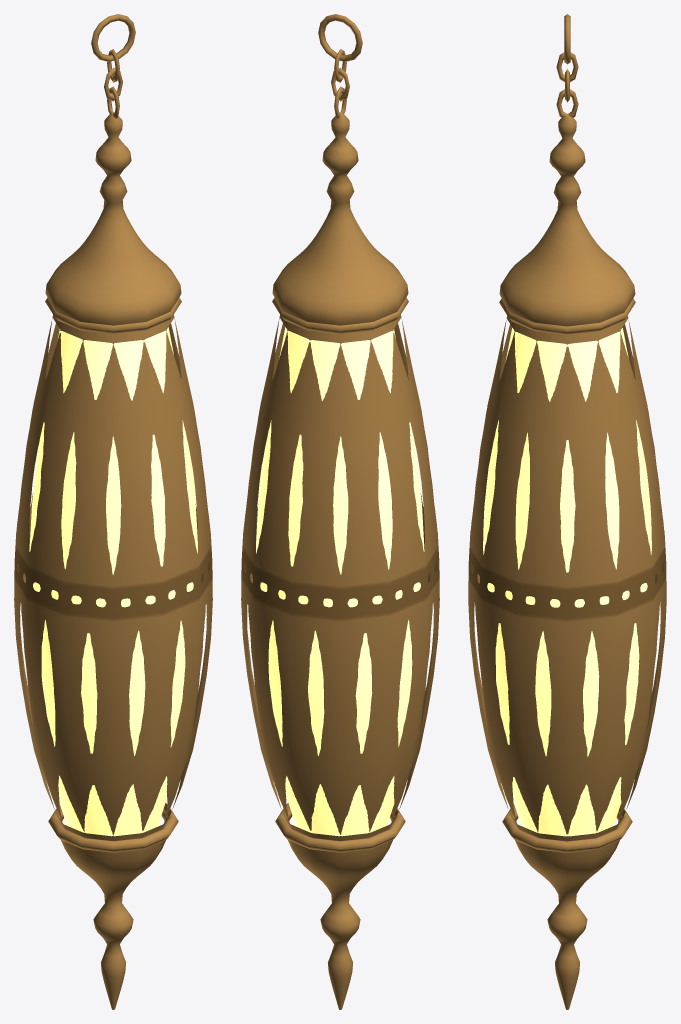
The model's file is prop-lantern-tall.glb.
The picture shows the model from 3 angles, left to right: view 1: azimuth 30°, elevation 25°; view 2: azimuth 150°, elevation 25°; view 3: azimuth 270°, elevation 25°; orthographic projection.
Parts seen in each view (by area): view 1: piece_BrassPierced, piece_Brass, piece_LampGlass; view 2: piece_BrassPierced, piece_Brass, piece_LampGlass; view 3: piece_BrassPierced, piece_Brass, piece_LampGlass.
Part boxes in pixels (x1,y1,x2,y2): piece_BrassPierced: (14, 315, 212, 840); piece_Brass: (45, 14, 181, 1009); piece_LampGlass: (29, 327, 197, 836); piece_BrassPierced: (241, 315, 439, 840); piece_Brass: (272, 14, 408, 1009); piece_LampGlass: (256, 327, 424, 836); piece_BrassPierced: (468, 315, 666, 841); piece_Brass: (499, 14, 635, 1009); piece_LampGlass: (483, 328, 651, 836).
Bounding box in the file's own units: 0.1247 × 0.6883 × 0.1247.
3 materials, 1 textured.
